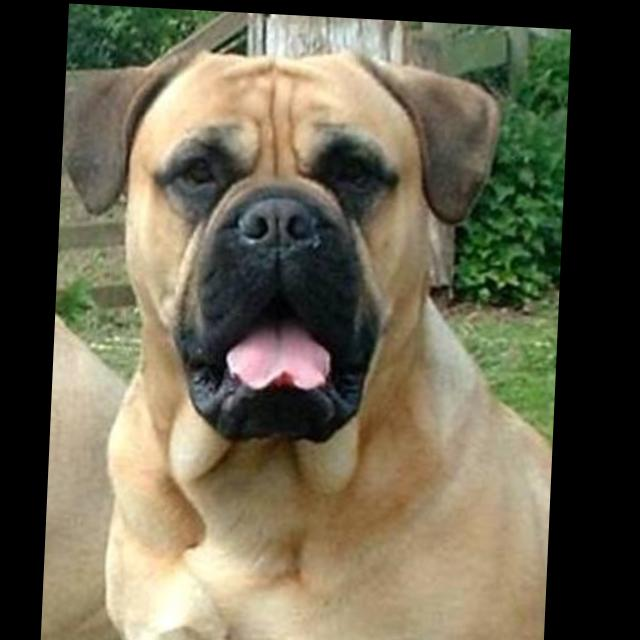bullmastiff: (48, 32, 571, 640)
